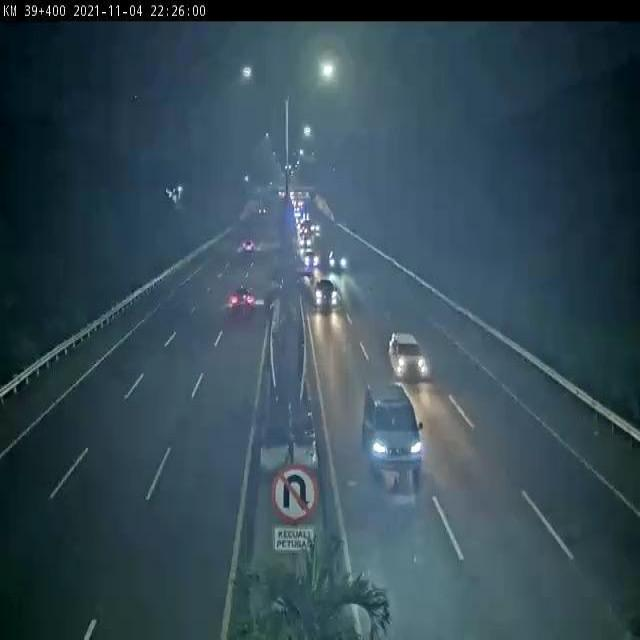car: (359, 384, 422, 479), (391, 331, 428, 384), (313, 280, 339, 305), (231, 289, 253, 311), (328, 250, 349, 270), (305, 248, 318, 265), (244, 239, 255, 249), (301, 238, 312, 246), (311, 226, 320, 233)
